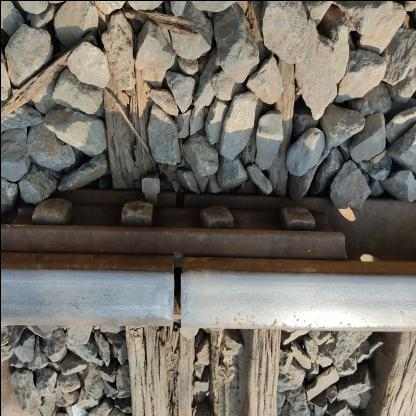Non Defective 2: (126, 247, 210, 334)
Non Defective 3: (1, 168, 358, 273)
